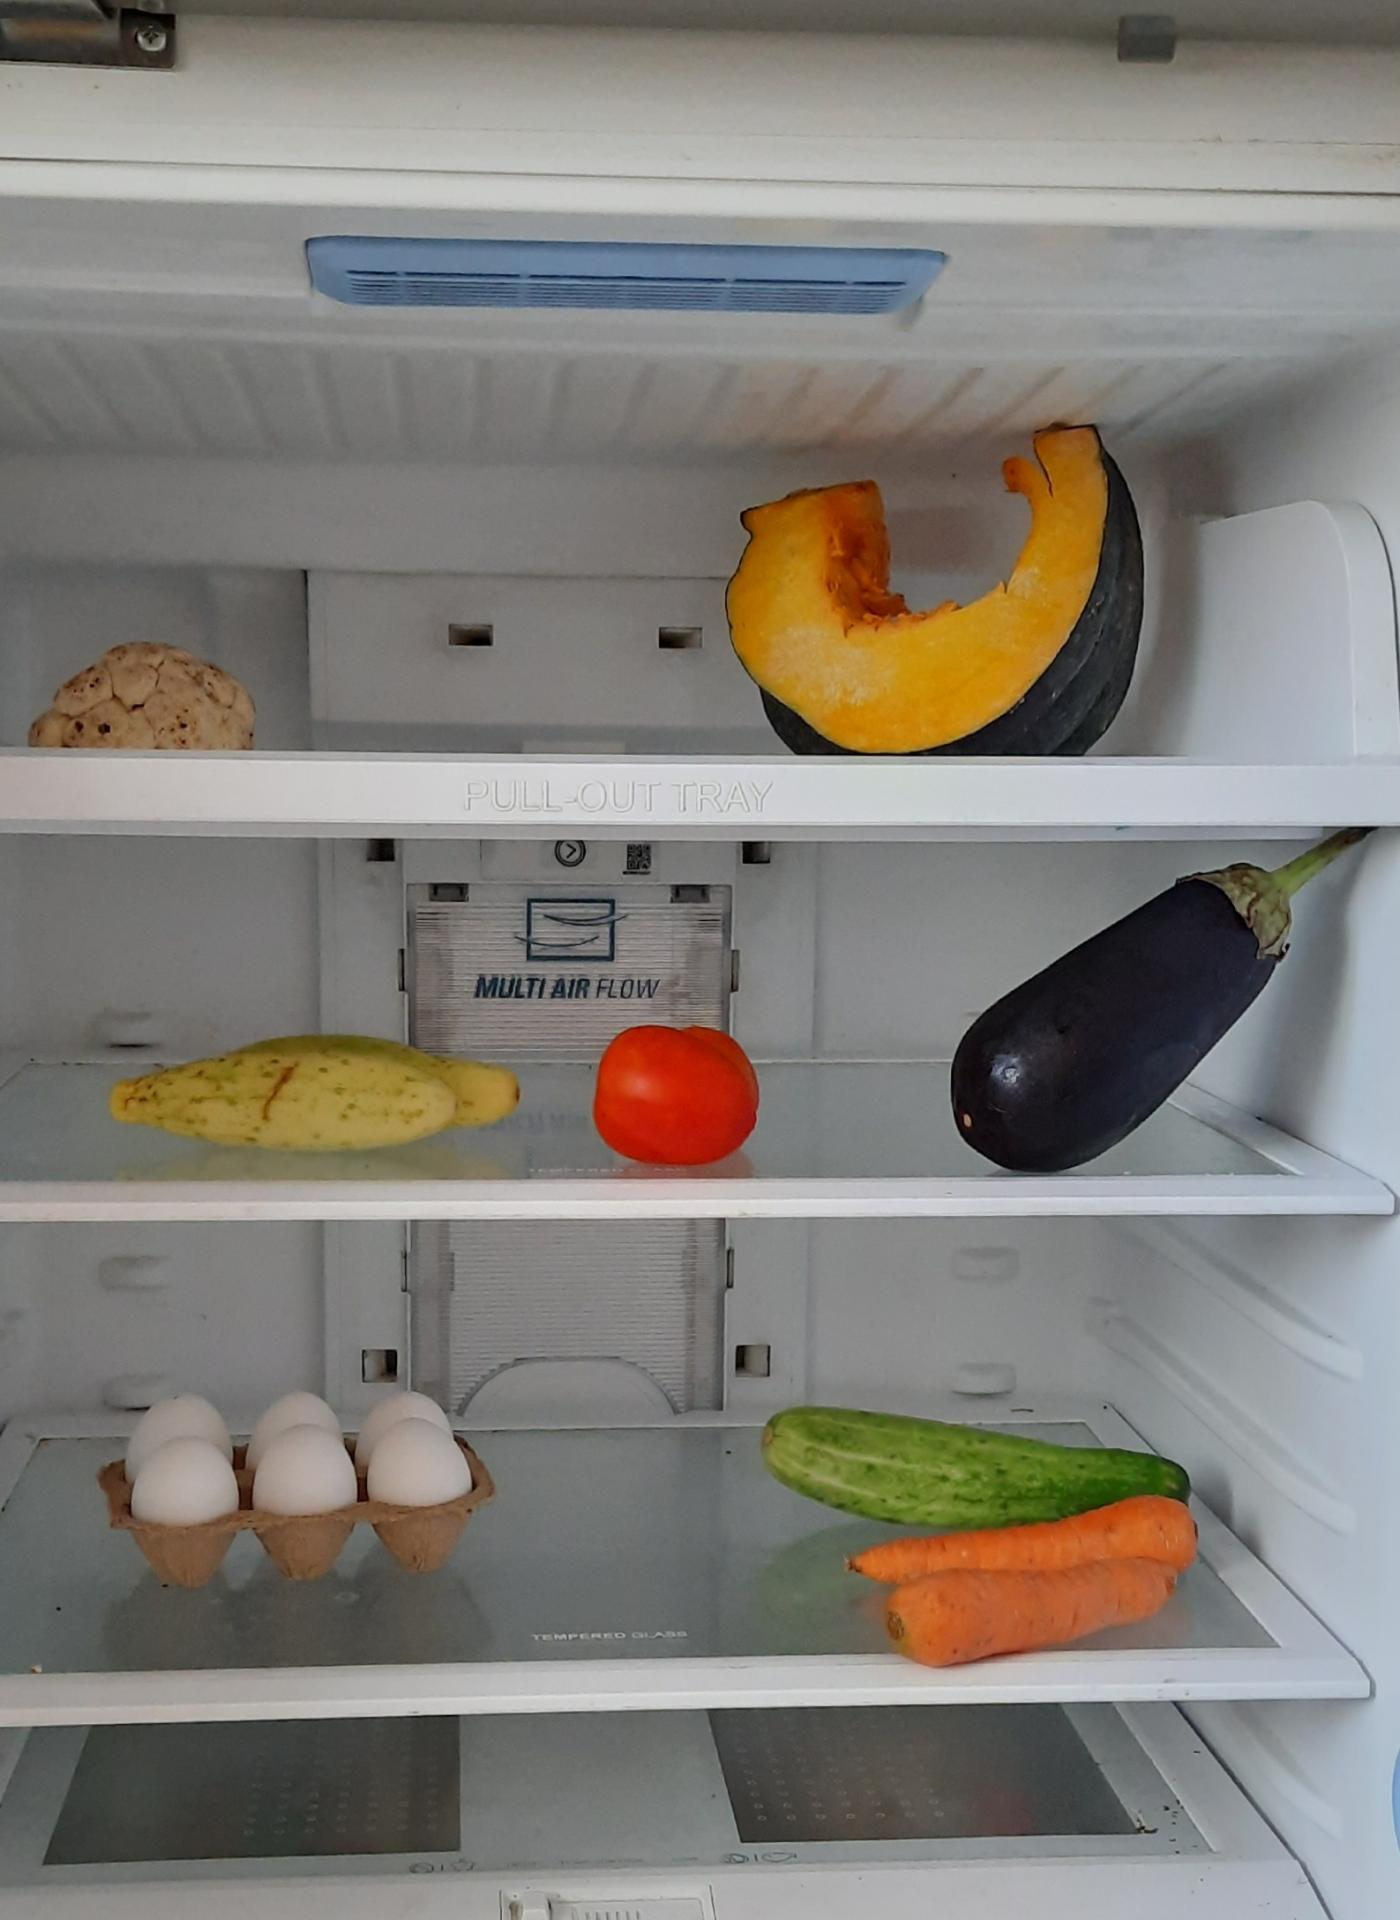brinjal: (930, 815, 1387, 1172)
carrots: (819, 1507, 1233, 1684)
cauliflower: (24, 625, 288, 766)
cucumber: (734, 1354, 1233, 1510), (101, 1032, 549, 1164)
egg: (89, 1362, 511, 1589)
pumpkin: (737, 455, 1158, 775)
tomato: (601, 1017, 792, 1172)
